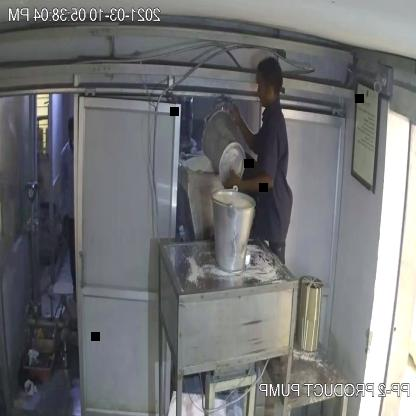no_glove: (214, 152, 278, 209), (226, 98, 260, 152)
